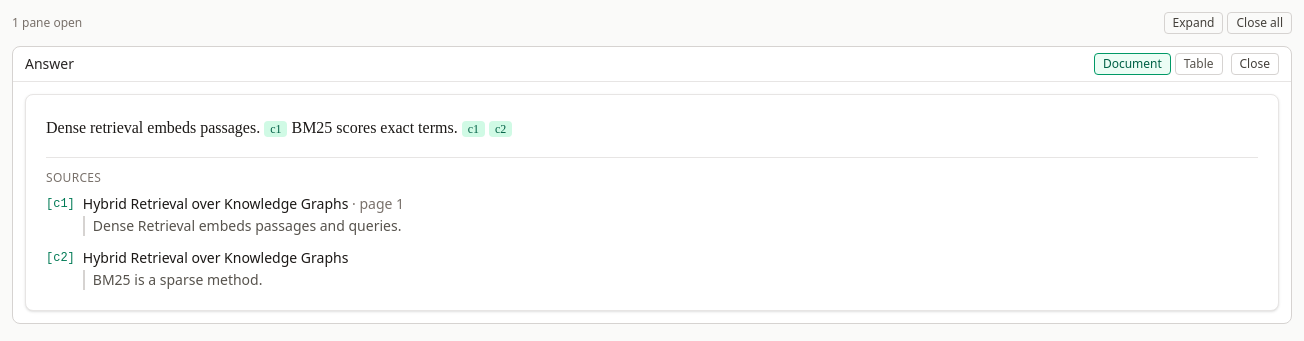
Panes › an answer opens as its sources table
What coordinates should you click on to do the following:
click the button "Table"
I would click on:
 (1199, 64)
Its box is [1175,53,1222,75].
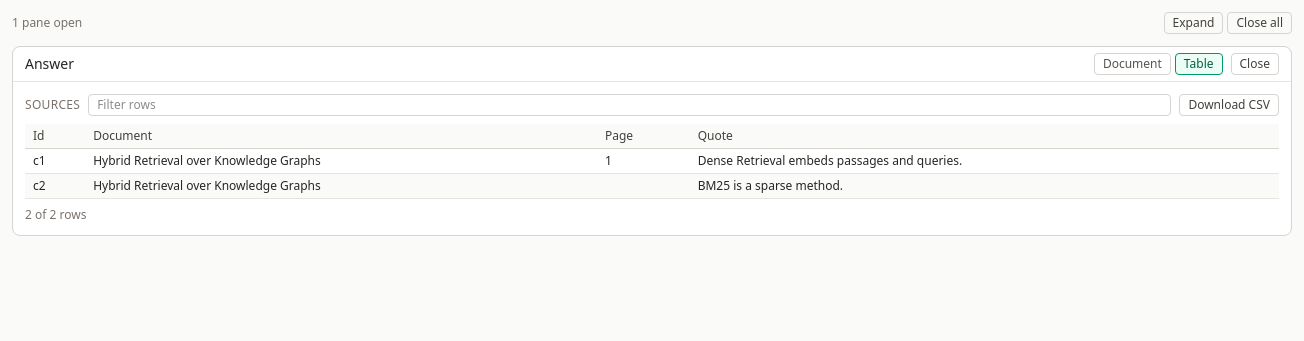
Expected: the element "Sources" is shown, [25,94,1279,223]
Expected: the number of rows is 3, [25,124,1279,148]; [25,148,1279,174]; [25,174,1279,198]
